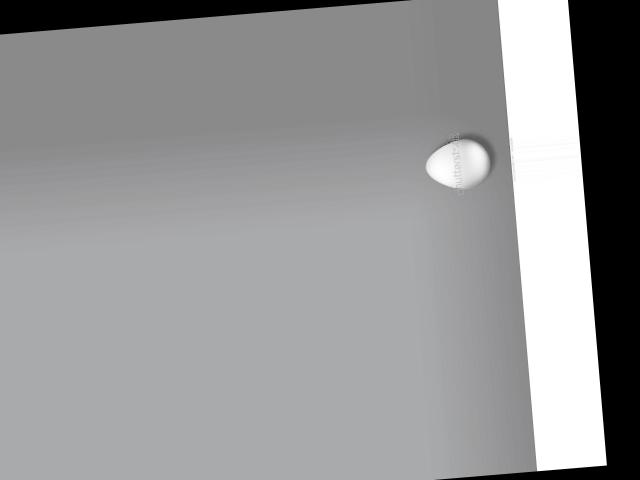egg: (423, 137, 491, 192)
